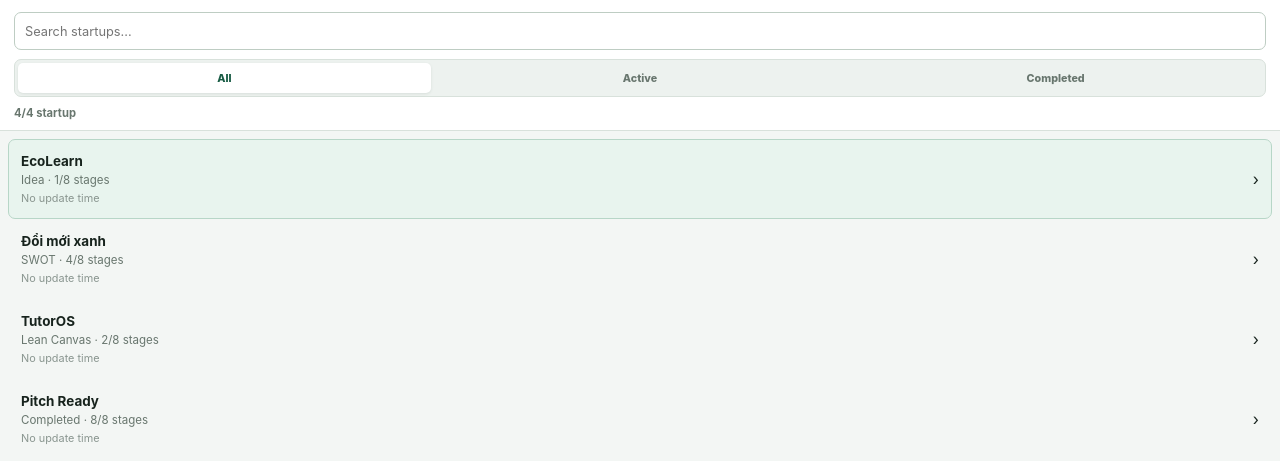
Scenario: StartupList › searches without accents and reports the visible result count
The image size is (1280, 461).
Expected: the text "4/4 startup" is shown, [14, 106, 76, 120]
Type "doi moi" into the search field labelled "Search startups".
click(640, 31); type("doi moi")  # box [14, 12, 1266, 50]
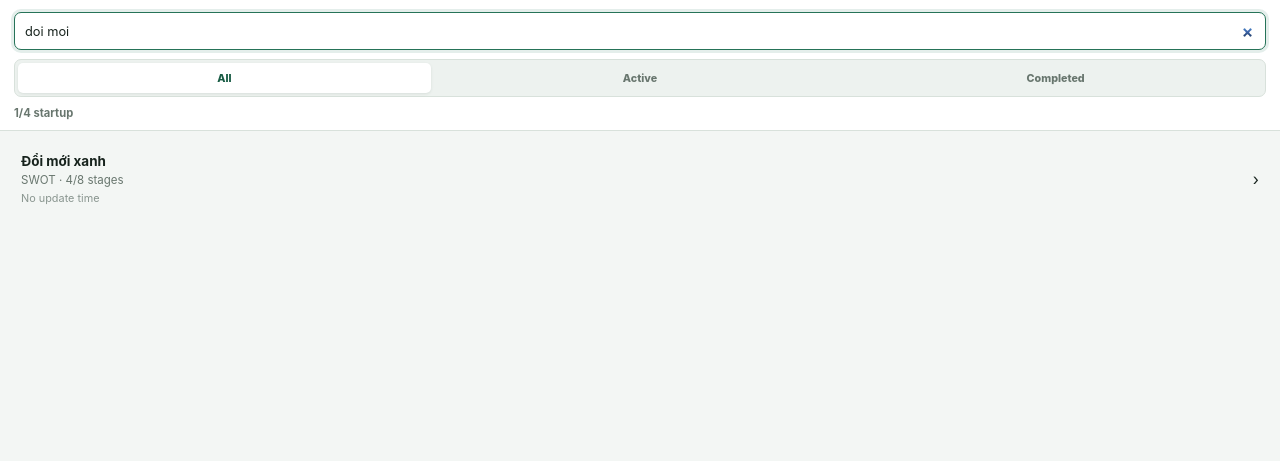
Expected: the text "Đổi mới xanh" is shown, [21, 153, 106, 169]
Expected: the button "EcoLearn" is gone
Expected: the text "1/4 startup" is shown, [14, 106, 73, 120]
